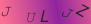J: (61, 8, 74, 18), (1, 6, 12, 17)
L: (40, 9, 49, 24)
U: (25, 12, 37, 24)
Z: (75, 3, 90, 18)
